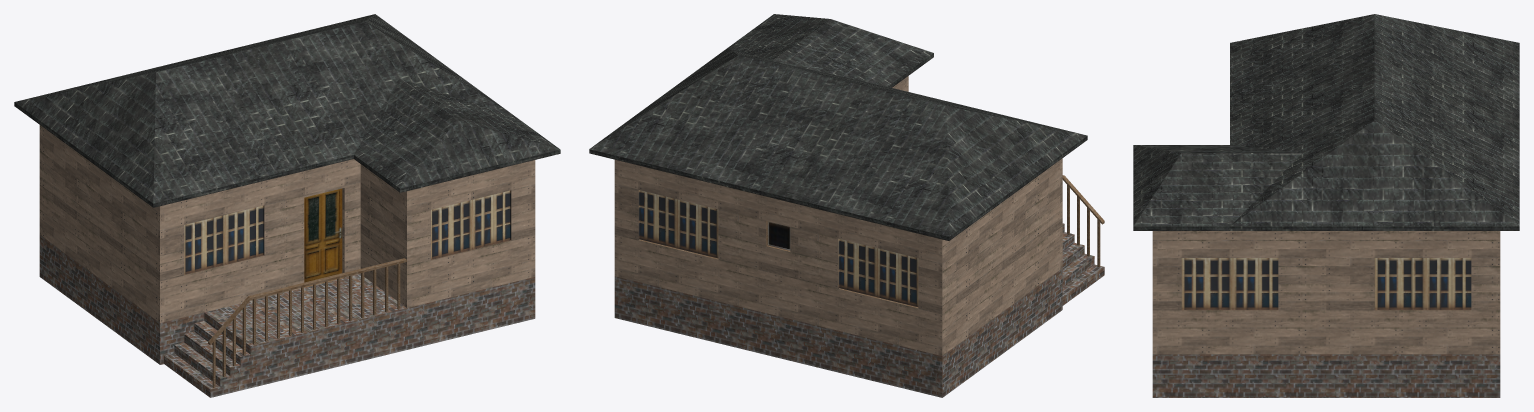
File: house2_tex3.glb
The picture shows the model from 3 angles, left to right: view 1: azimuth 30°, elevation 25°; view 2: azimuth 150°, elevation 25°; view 3: azimuth 270°, elevation 25°; orthographic projection. The views are drawn at different scales.
Parts seen in each view (by area): view 1: house2, house2_windows, house2_door1; view 2: house2, house2_windows; view 3: house2, house2_windows.
Boxes of the visible parts, x1,y1,x2,y2 form: house2: (14, 14, 560, 397); house2_windows: (184, 190, 511, 274); house2_door1: (304, 188, 342, 282); house2: (589, 14, 1104, 397); house2_windows: (638, 190, 918, 308); house2: (1133, 14, 1519, 397); house2_windows: (1181, 258, 1471, 310).
Size of the model in its own units: 9 by 5.6 by 8.
Materials: 1 (1 with a texture image).
